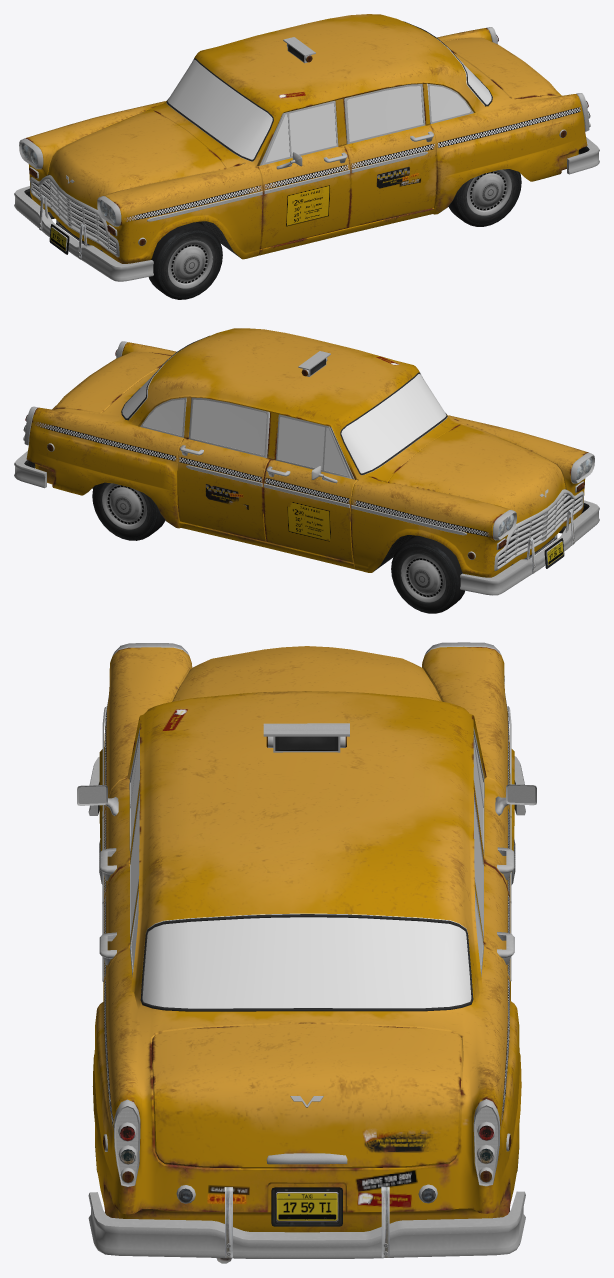
The model's file is Taxi.fbx.
The picture shows the model from 3 angles, top to bottom: view 1: azimuth 30°, elevation 25°; view 2: azimuth 150°, elevation 25°; view 3: azimuth 270°, elevation 25°; orthographic projection. The views are drawn at different scales.
Visible parts, largest first — view 1: Body_Taxi_old_bodycolour_0, Hood_Taxi_old_bodycolour_0, Door_RL_Taxi_old_bodycolour_0, Door_FL_Taxi_old_bodycolour_0, Windshield_UCB_GLASS_CLEAN_0, Bottom_UCB_BOTTOM_0, Wheel_FL_RIMSTOCK_05_0, Trunk_door_Taxi_old_bodycolour_0, Door_Glass_RL_UCB_GLASS_CLEAN_0, Wheel_RL_RIMSTOCK_05_0, Bumper_front_UCB_BOTTOM_0, Door_Glass_FL_UCB_GLASS_CLEAN_0 (+7 smaller); view 2: Body_Taxi_old_bodycolour_0, Hood_Taxi_old_bodycolour_0, Door_RR_Taxi_old_bodycolour_0, Door_FR_Taxi_old_bodycolour_0, Windshield_UCB_GLASS_CLEAN_0, Bottom_UCB_BOTTOM_0, Wheel_FR_RIMSTOCK_05_0, Trunk_door_Taxi_old_bodycolour_0, Door_Glass_RR_UCB_GLASS_CLEAN_0, Wheel_RR_RIMSTOCK_05_0, Bumper_front_UCB_BOTTOM_0, Door_Glass_FR_UCB_GLASS_CLEAN_0 (+7 smaller); view 3: Body_Taxi_old_bodycolour_0, Trunk_door_Taxi_old_bodycolour_0, Rear_windows_UCB_GLASS_CLEAN_0, Bumper_rear_UCB_BOTTOM_0, Hood_Taxi_old_bodycolour_0, Bottom_UCB_BOTTOM_0, Taillights_UCB_BOTTOM_0, Taxi_rooflight_UCB_BOTTOM_0, Door_RR_Taxi_old_bodycolour_0, Door_RL_Taxi_old_bodycolour_0, Door_FR_Taxi_old_bodycolour_0, Door_FL_Taxi_old_bodycolour_0 (+4 smaller).
Part boxes in pixels (<box>): Body_Taxi_old_bodycolour_0: <box>25,14,587,263</box>; Hood_Taxi_old_bodycolour_0: <box>48,110,226,209</box>; Door_RL_Taxi_old_bodycolour_0: <box>344,124,436,227</box>; Door_FL_Taxi_old_bodycolour_0: <box>256,145,350,249</box>; Windshield_UCB_GLASS_CLEAN_0: <box>167,59,272,159</box>; Bottom_UCB_BOTTOM_0: <box>29,21,566,258</box>; Wheel_FL_RIMSTOCK_05_0: <box>148,222,222,299</box>; Trunk_door_Taxi_old_bodycolour_0: <box>442,37,561,99</box>; Door_Glass_RL_UCB_GLASS_CLEAN_0: <box>347,86,423,141</box>; Wheel_RL_RIMSTOCK_05_0: <box>448,169,521,226</box>; Bumper_front_UCB_BOTTOM_0: <box>14,186,153,281</box>; Door_Glass_FL_UCB_GLASS_CLEAN_0: <box>265,103,336,162</box>; Body_Taxi_old_bodycolour_0: <box>26,328,588,577</box>; Hood_Taxi_old_bodycolour_0: <box>388,424,565,523</box>; Door_RR_Taxi_old_bodycolour_0: <box>177,438,269,541</box>; Door_FR_Taxi_old_bodycolour_0: <box>263,459,357,562</box>; Windshield_UCB_GLASS_CLEAN_0: <box>341,374,446,473</box>; Bottom_UCB_BOTTOM_0: <box>47,335,584,571</box>; Wheel_FR_RIMSTOCK_05_0: <box>391,536,464,613</box>; Trunk_door_Taxi_old_bodycolour_0: <box>52,351,171,412</box>; Door_Glass_RR_UCB_GLASS_CLEAN_0: <box>191,399,266,455</box>; Wheel_RR_RIMSTOCK_05_0: <box>92,482,165,540</box>; Bumper_front_UCB_BOTTOM_0: <box>460,500,599,595</box>; Door_Glass_FR_UCB_GLASS_CLEAN_0: <box>277,417,348,476</box>; Body_Taxi_old_bodycolour_0: <box>92,646,521,1232</box>; Trunk_door_Taxi_old_bodycolour_0: <box>151,1024,462,1168</box>; Rear_windows_UCB_GLASS_CLEAN_0: <box>131,897,482,1008</box>; Bumper_rear_UCB_BOTTOM_0: <box>88,1186,525,1258</box>; Hood_Taxi_old_bodycolour_0: <box>172,646,441,701</box>; Bottom_UCB_BOTTOM_0: <box>95,706,519,1226</box>; Taillights_UCB_BOTTOM_0: <box>114,1099,500,1186</box>; Taxi_rooflight_UCB_BOTTOM_0: <box>263,723,349,752</box>; Door_RR_Taxi_old_bodycolour_0: <box>483,863,510,998</box>; Door_RL_Taxi_old_bodycolour_0: <box>103,864,130,998</box>; Door_FR_Taxi_old_bodycolour_0: <box>484,777,510,908</box>; Door_FL_Taxi_old_bodycolour_0: <box>104,778,129,906</box>.
Bounding box in the file's own units: 1456 × 499 × 585.
